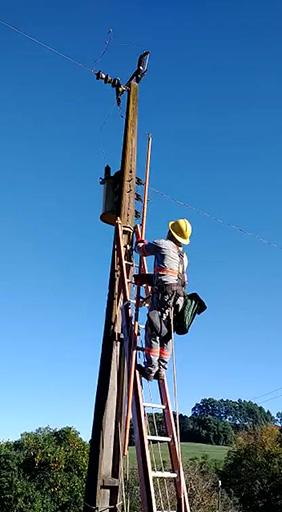Vara_Manobra: (122, 139, 153, 457)
